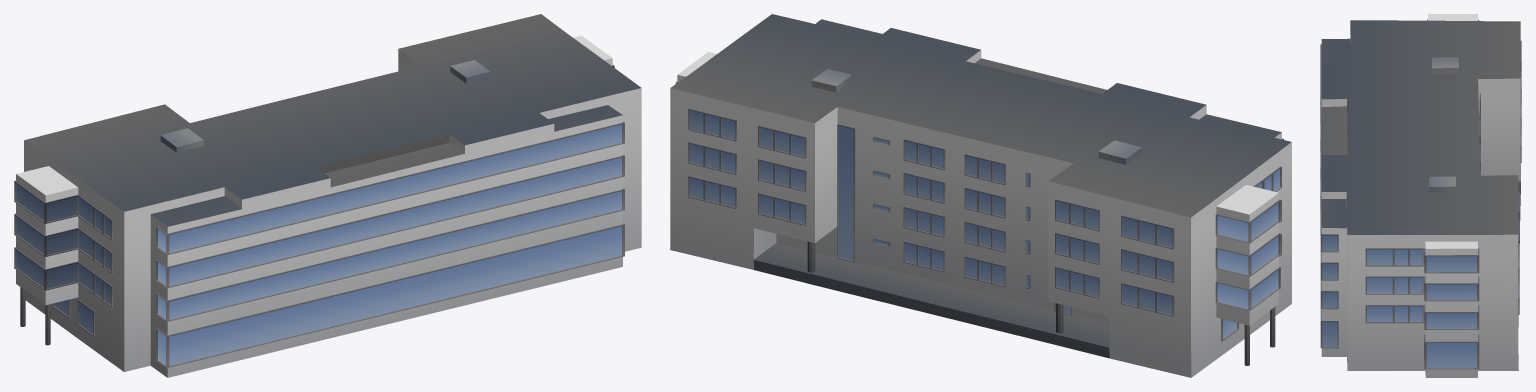
The model's file is orvokki_lehdokkitie.fbx.
The picture shows the model from 3 angles, left to right: view 1: azimuth 30°, elevation 25°; view 2: azimuth 150°, elevation 25°; view 3: azimuth 270°, elevation 25°; orthographic projection. The views are drawn at different scales.
Visible parts, largest first — view 1: orvokki_lehdokkitie; view 2: orvokki_lehdokkitie; view 3: orvokki_lehdokkitie.
Boxes of the visible parts, x1,y1,x2,y2 form: orvokki_lehdokkitie: (14,14,641,377); orvokki_lehdokkitie: (670,14,1291,377); orvokki_lehdokkitie: (1320,14,1521,377).
Size of the model in its own units: 132 by 36.95 by 47.58.
